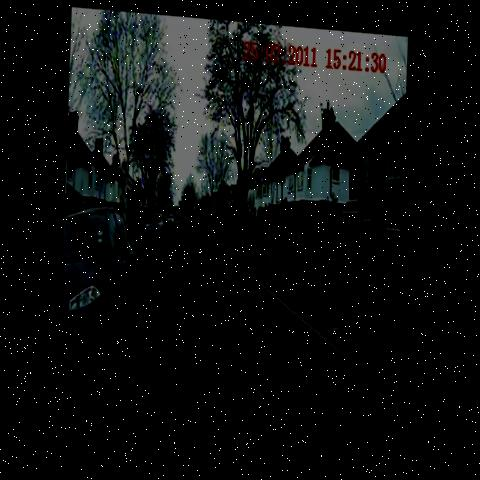pothole: (190, 303, 222, 337), (220, 264, 244, 280)
